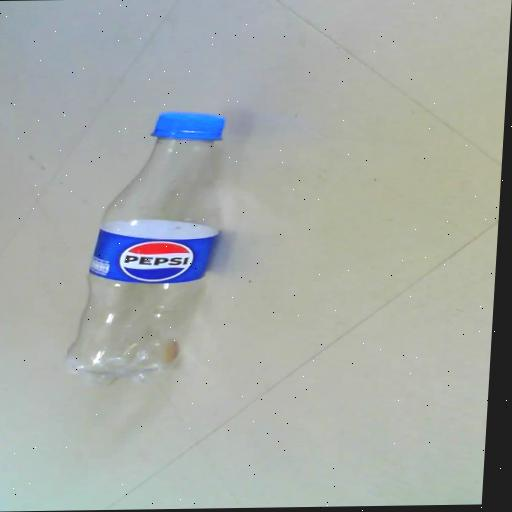bottle: (35, 90, 266, 412)
